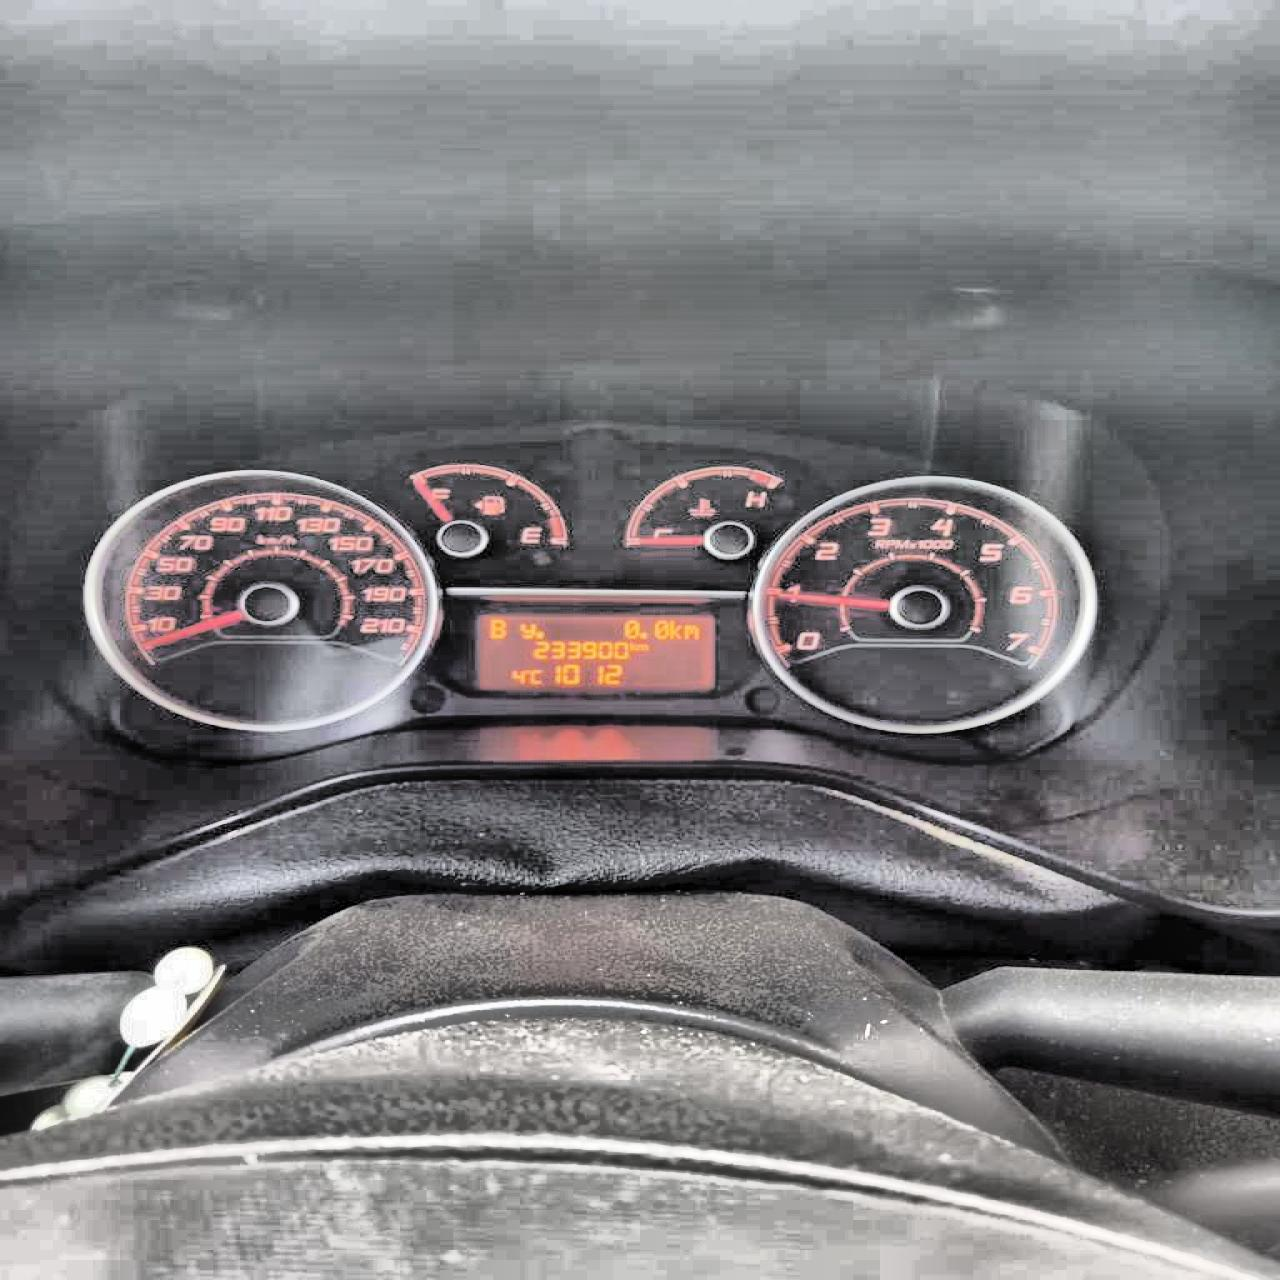-: (533, 629, 545, 639), (639, 629, 647, 640)
0: (621, 619, 639, 639), (561, 662, 578, 683), (652, 619, 667, 639), (597, 640, 612, 658), (613, 640, 628, 658)
1: (553, 663, 560, 685), (595, 663, 601, 685)
2: (604, 662, 620, 683), (532, 640, 549, 658)
3: (550, 639, 564, 658), (565, 639, 578, 658)
4: (510, 668, 523, 683)
9: (580, 640, 597, 659)
X: (489, 617, 506, 638), (668, 617, 682, 639), (518, 621, 535, 638), (682, 622, 699, 639), (529, 669, 539, 685), (636, 641, 648, 651), (628, 640, 636, 651)
odometer: (471, 611, 719, 694)
